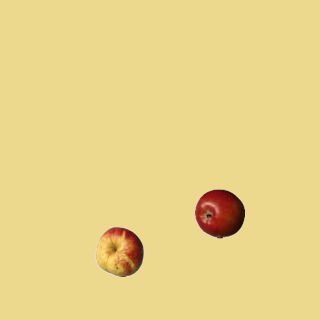Apple Braeburn: (194, 188, 244, 238)
Apple Red Yellow 1: (94, 226, 144, 276)
